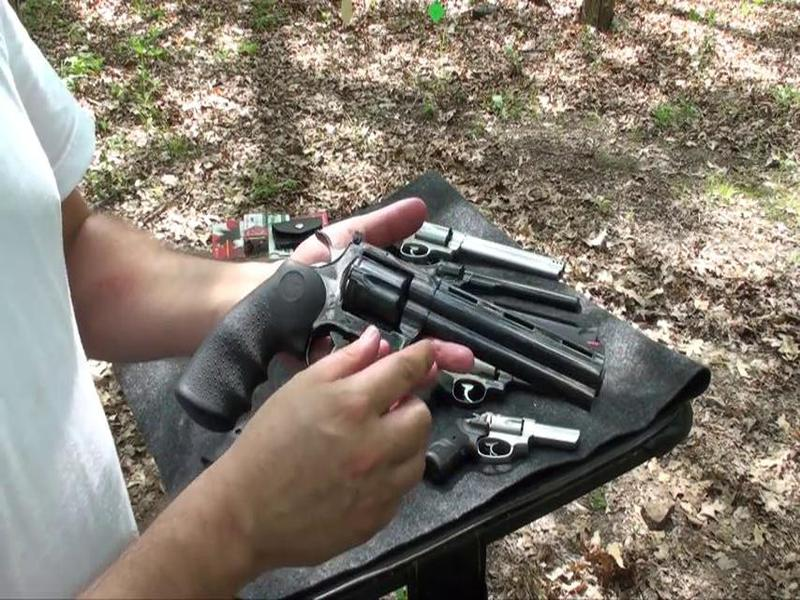Revolver: (208, 221, 596, 461)
